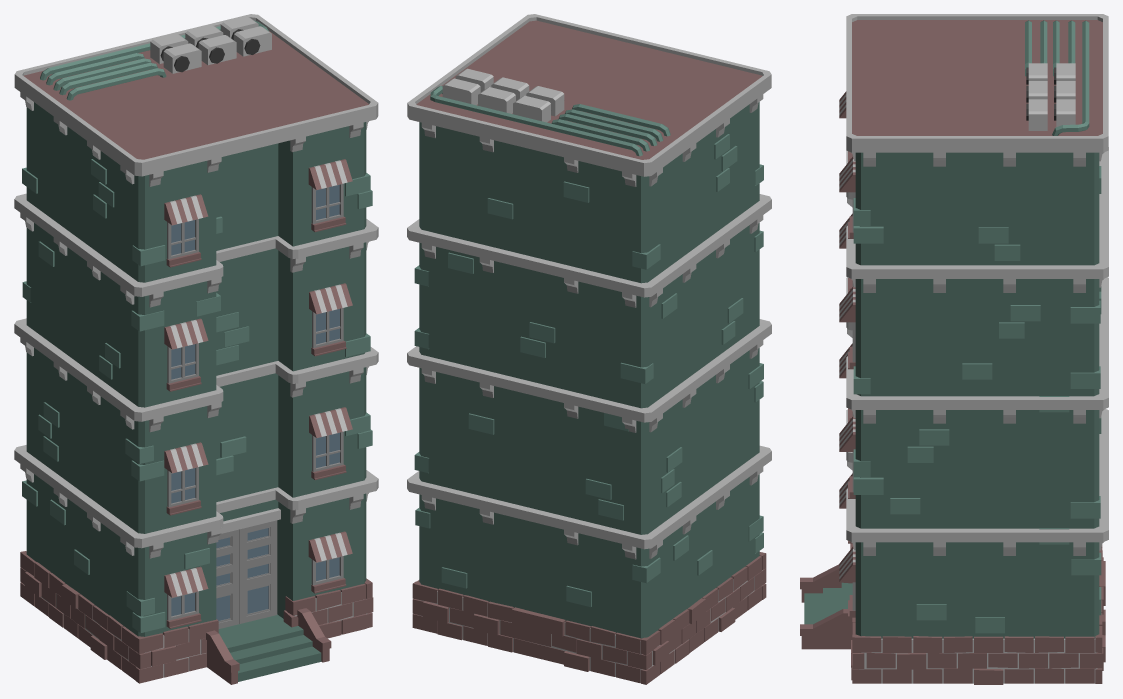
File: 4Story_Center_Mat.glb
3 renders of one model, left to right at view 1: azimuth 30°, elevation 25°; view 2: azimuth 150°, elevation 25°; view 3: azimuth 270°, elevation 25°, orthographic. The views are drawn at different scales.
Visible parts, largest first — view 1: 4Story_Center_Mat; view 2: 4Story_Center_Mat; view 3: 4Story_Center_Mat.
Boxes of the visible parts, x1,y1,x2,y2 form: 4Story_Center_Mat: (14,14,378,684); 4Story_Center_Mat: (407,14,771,684); 4Story_Center_Mat: (800,14,1108,684).
Bounding box in the file's own units: 1.94 × 4.07 × 2.03.
